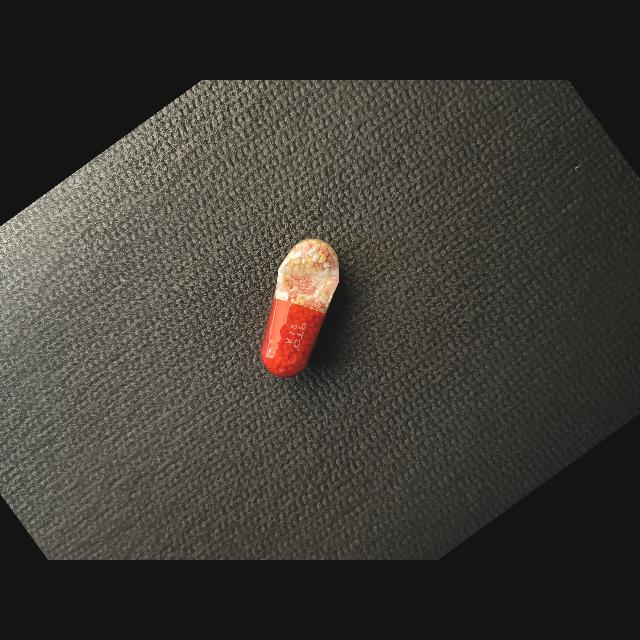Defective Capsule: (261, 239, 339, 377)
